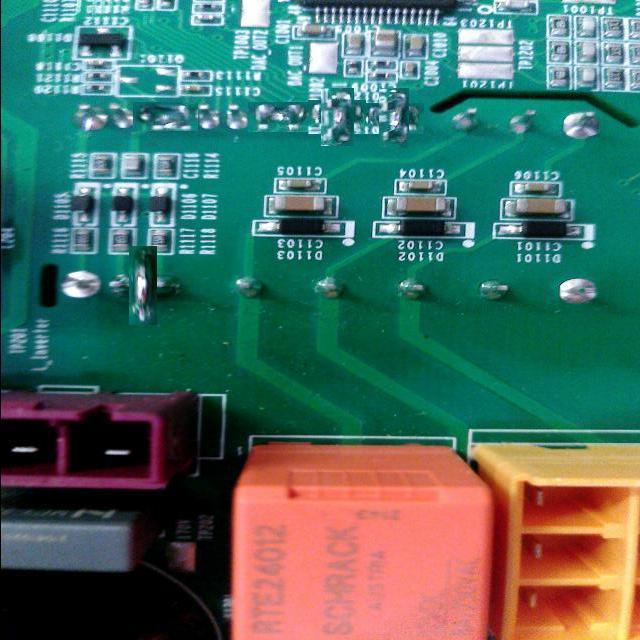Short_circuit: (116, 258, 170, 312), (314, 94, 360, 140), (371, 96, 417, 141), (132, 102, 198, 132), (248, 102, 308, 132)
